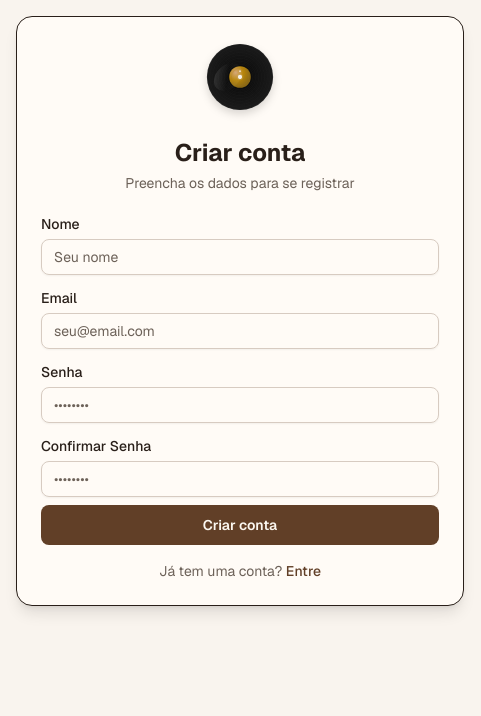
Test: RegisterPage › validação de email › should show error for empty email
Type "Test User" into the field labelled "Nome". click: [240, 257]
box: [41, 239, 439, 275]
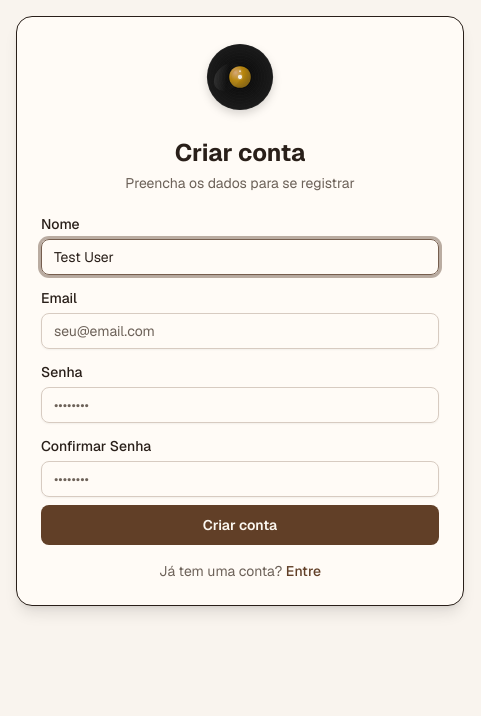
Click the button "Criar conta". click: [240, 525]
box: [41, 505, 439, 545]
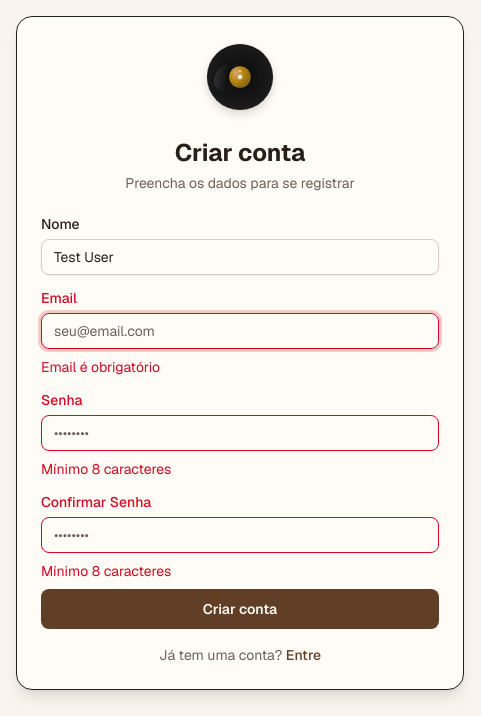
Result: the text "Email é obrigatório" is shown at [41, 358, 160, 376]
